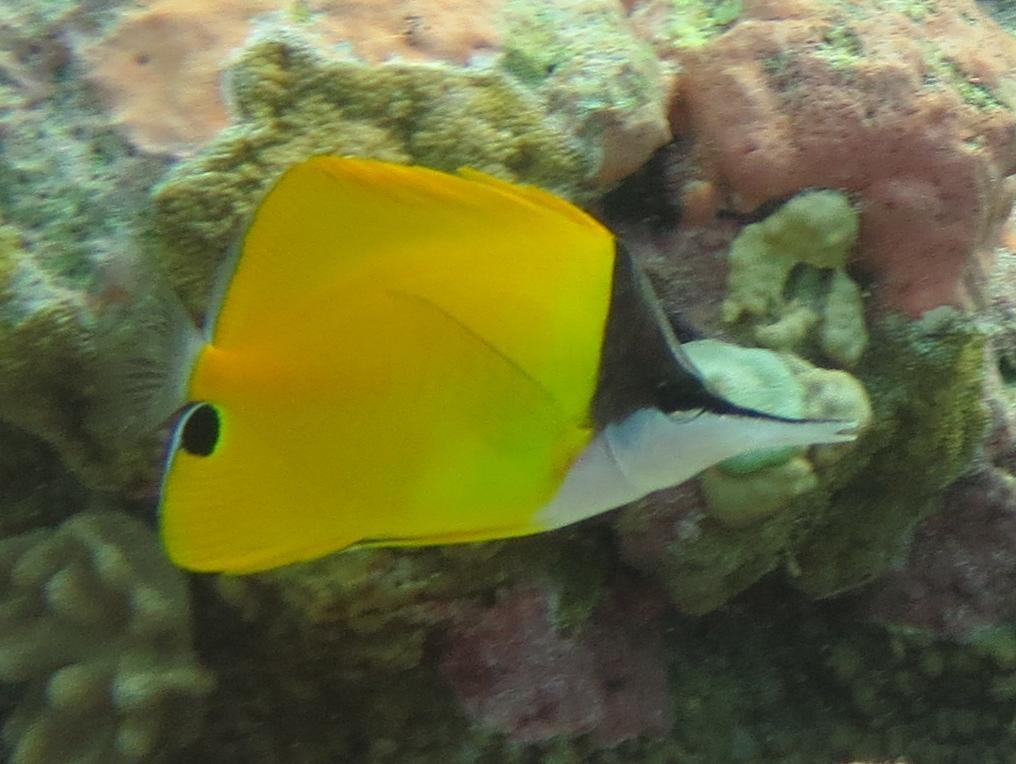Fish: (62, 131, 900, 662)
